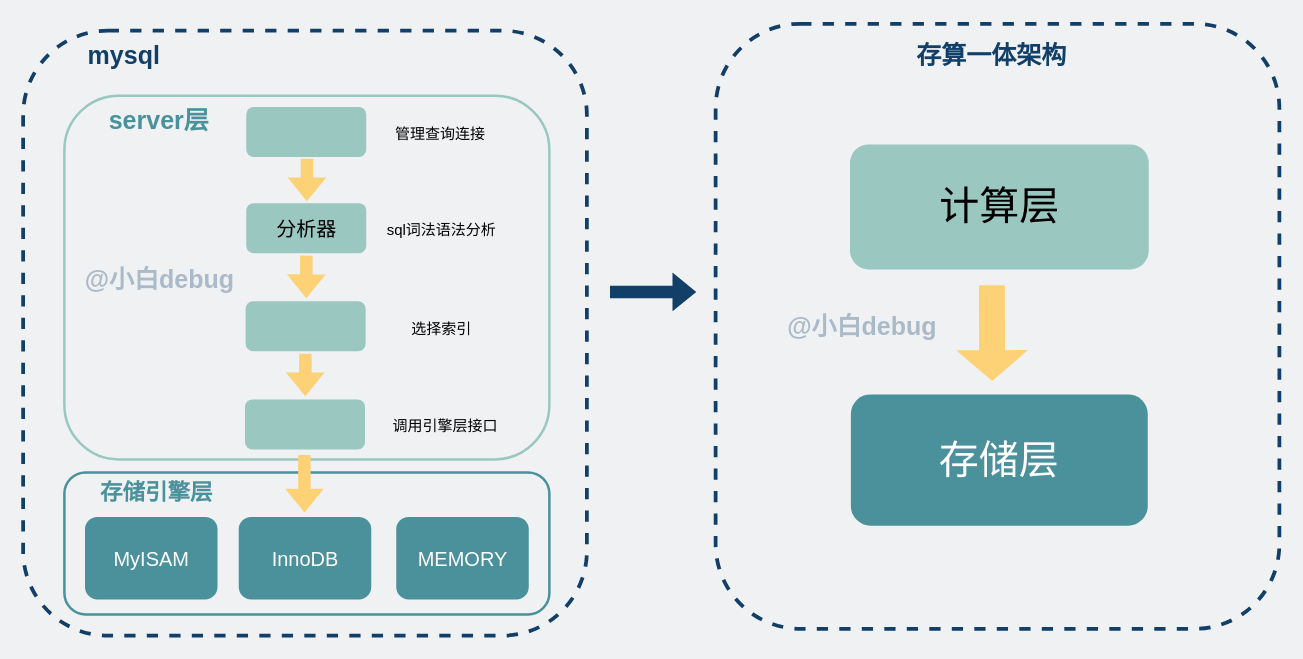
Some shapes in this 1303 by 659 pixel diagram are drawn without their labels. Each missing label, with the centre of its shape:
"优化器" goes at (305,326).
"执行器" goes at (304,424).
"连接管理" goes at (306,131).
